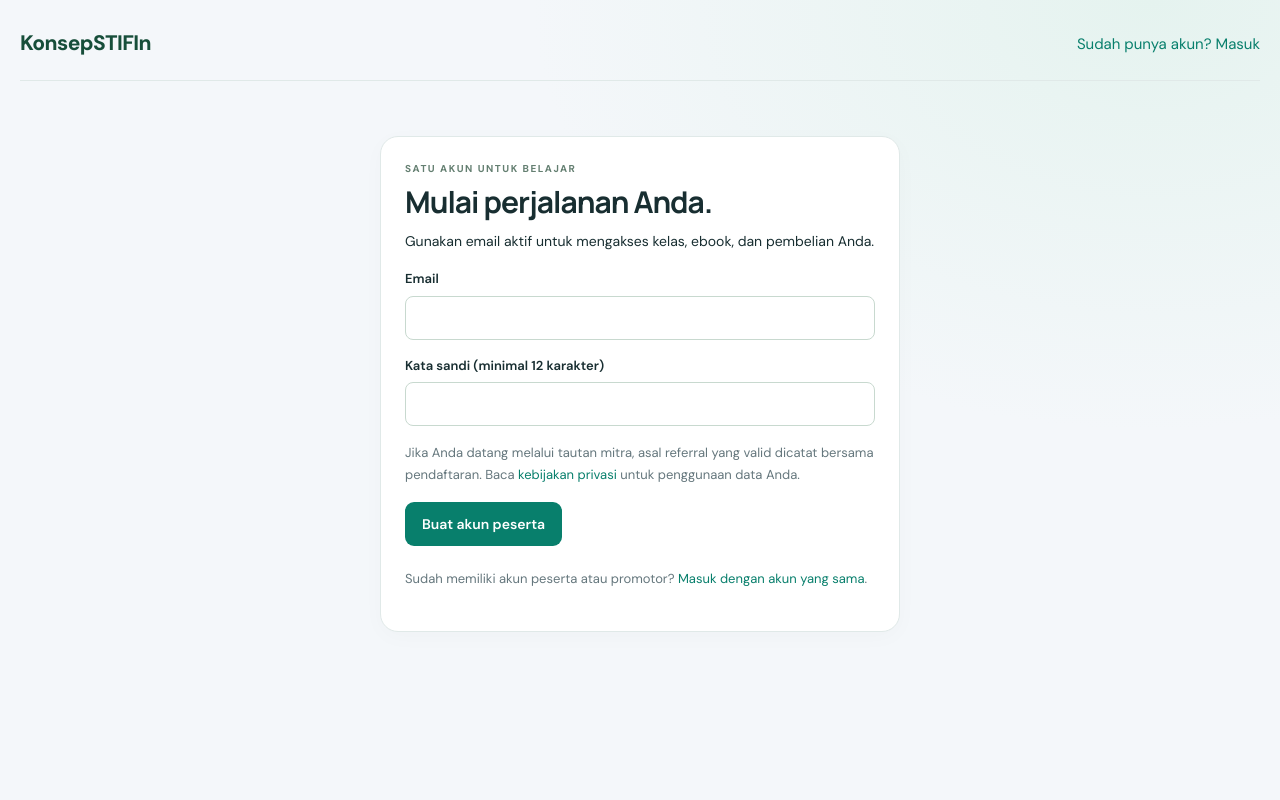
it: renders failed registration as an error and replaces a successful form with a login action
Step 1. Type "person@example.test" into the field labelled "Email" → {"x": 640, "y": 318}, box [405, 296, 875, 340]
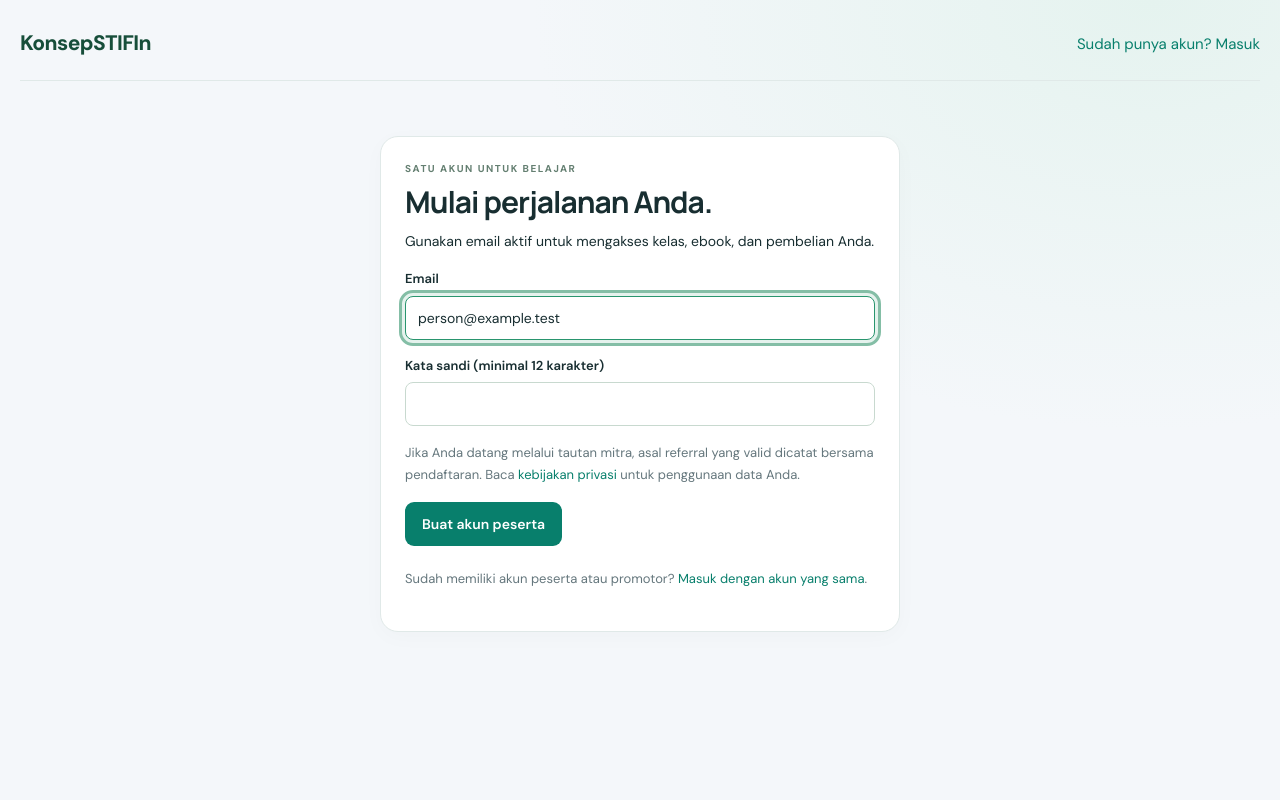
Step 2. Type "Long-password-123" into the password field labelled "Kata sandi (minimal 12 karakter)" → {"x": 640, "y": 404}, box [405, 382, 875, 426]
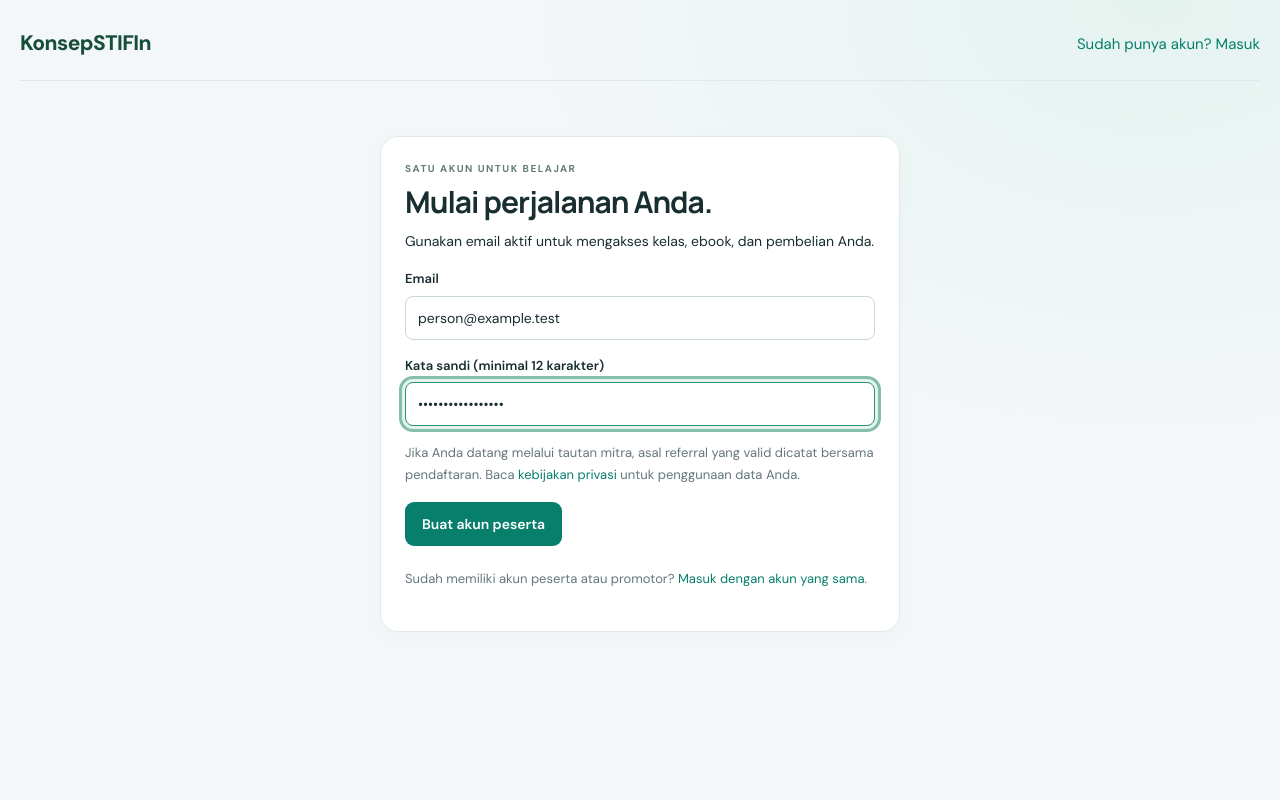
Step 3. Click the button "Buat akun peserta" → {"x": 484, "y": 524}, box [405, 502, 562, 546]
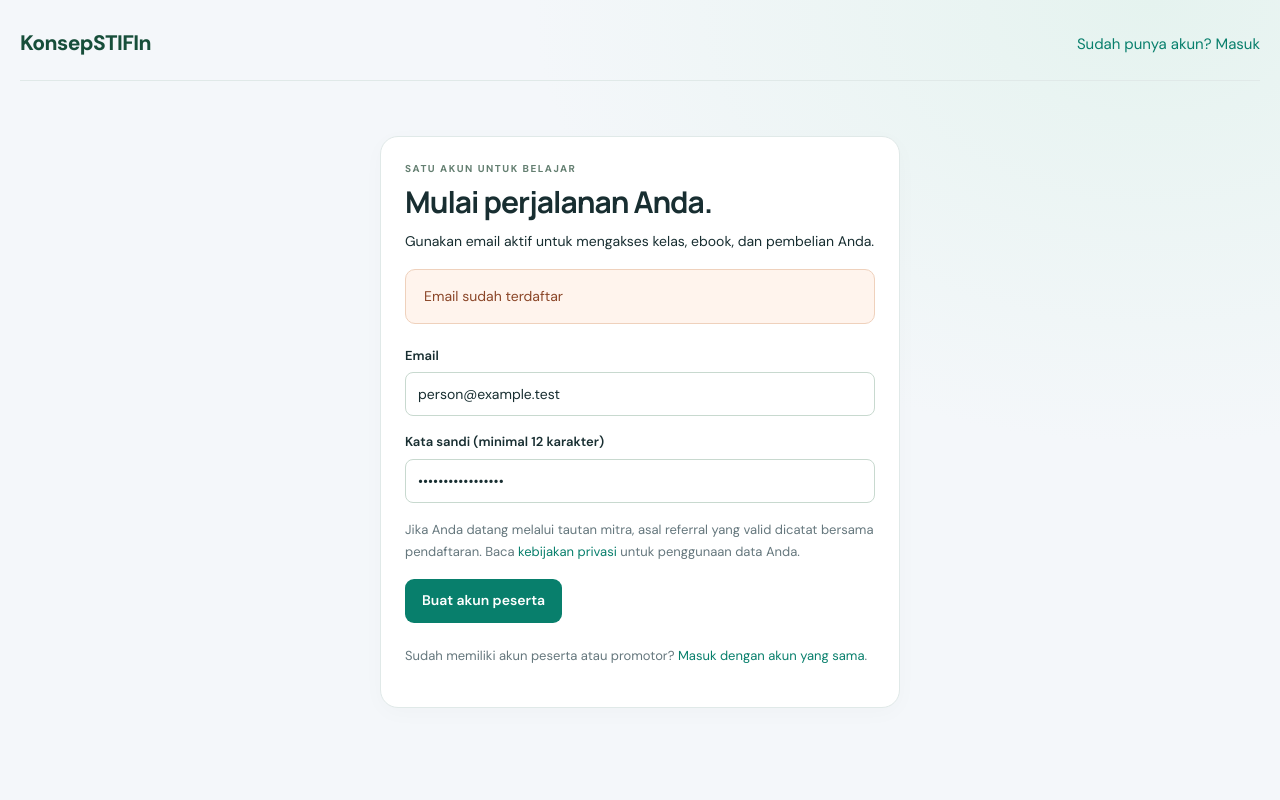
Result: the message reads "Email sudah terdaftar" at [424, 287, 563, 305]
Step 4. Click the button "Buat akun peserta" → {"x": 484, "y": 601}, box [405, 579, 562, 623]
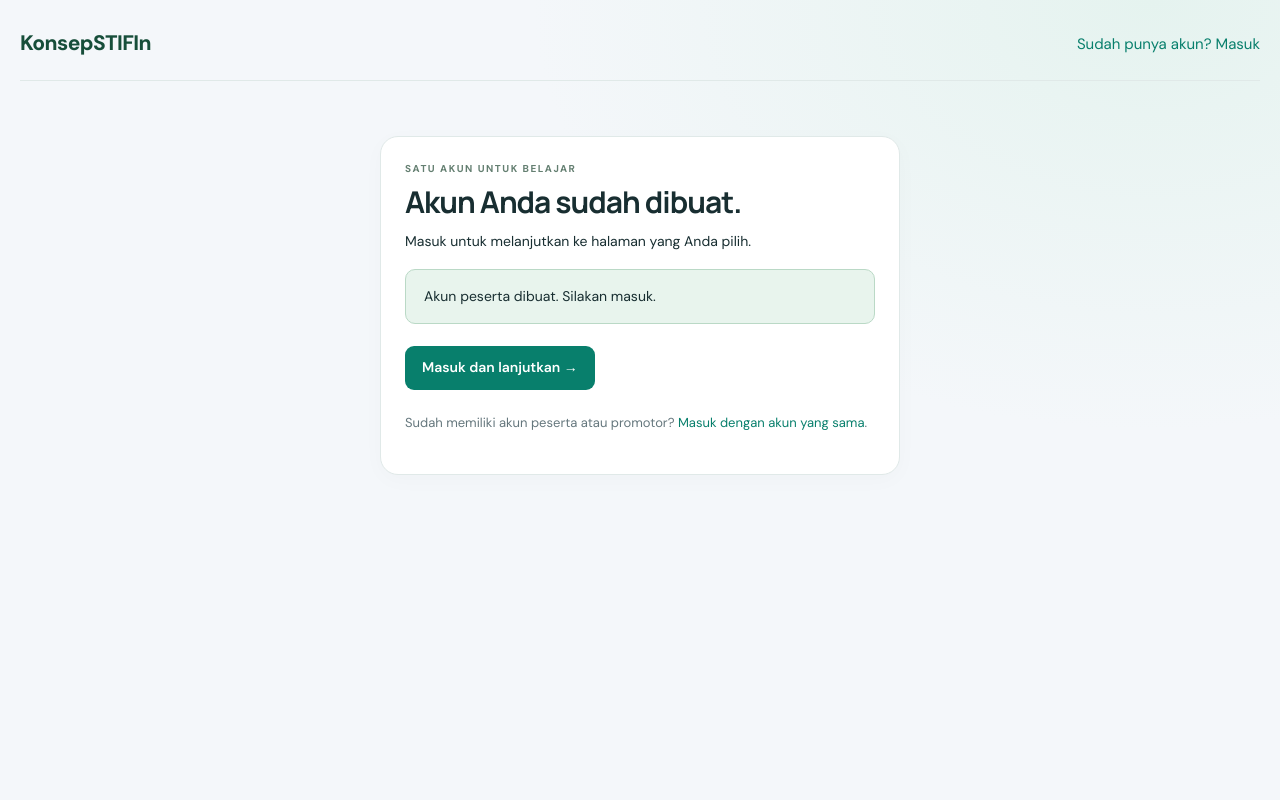
Result: the button "Buat akun peserta" is gone
